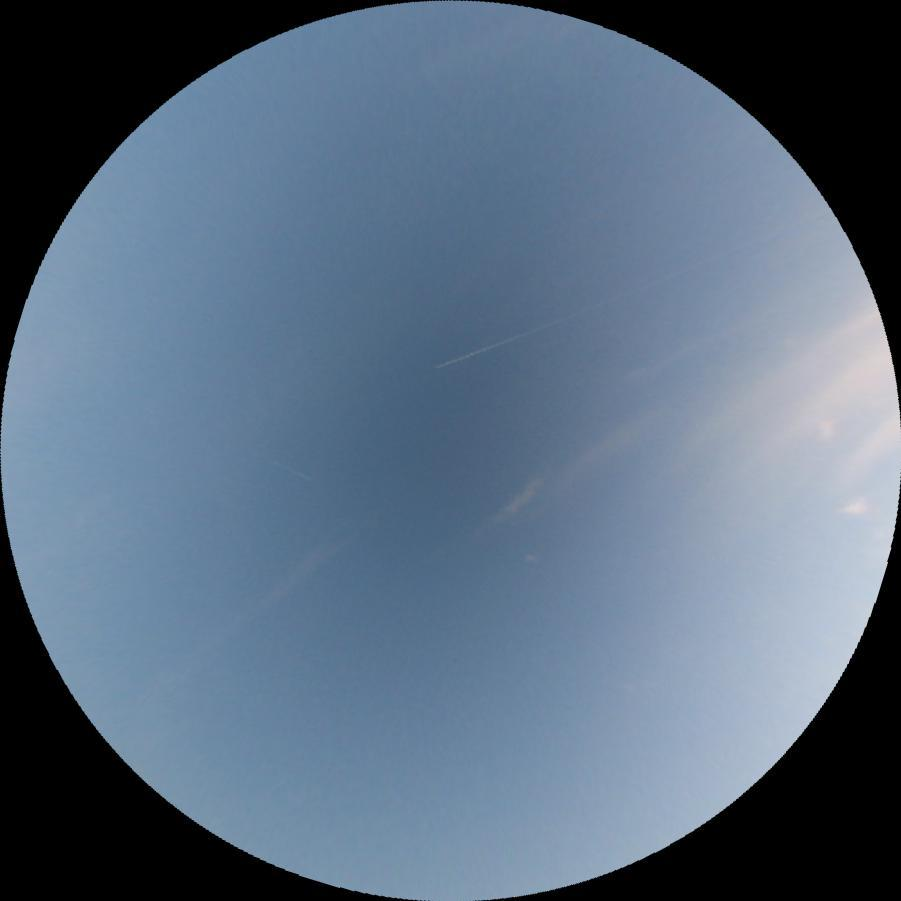contrail young: (435, 211, 836, 370), (272, 460, 313, 482)
